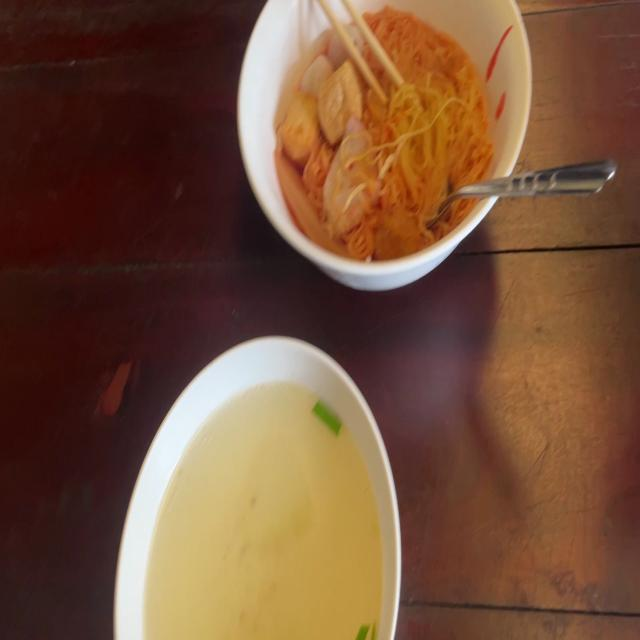crunchy_squid: (270, 148, 353, 266)
egg_noodles: (369, 10, 486, 224)
fish_ball: (327, 25, 367, 72), (301, 51, 329, 102)
fried_fish_balls: (328, 116, 372, 231)
fried_tofu: (323, 64, 362, 139)
noodle: (279, 8, 491, 264)
tofu: (283, 94, 318, 157)
